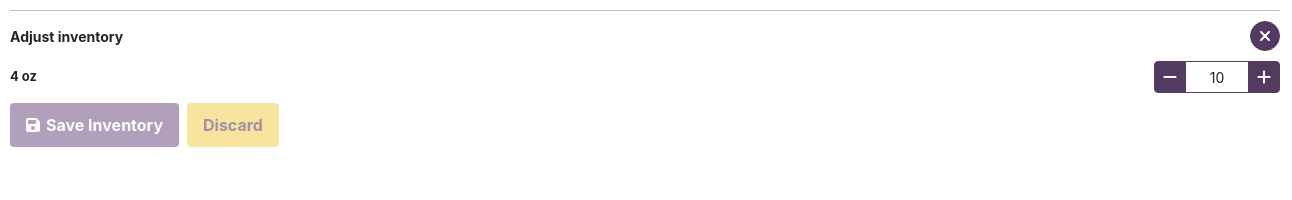
Test: admin preview product inventory editor › refreshes safely when Firestore rejects a stale quantity
Replace the text in the field named "4 oz Saffron Maple Syrup stock" with "12" at (1217, 77), box x1=1186 y1=61 x2=1248 y2=93
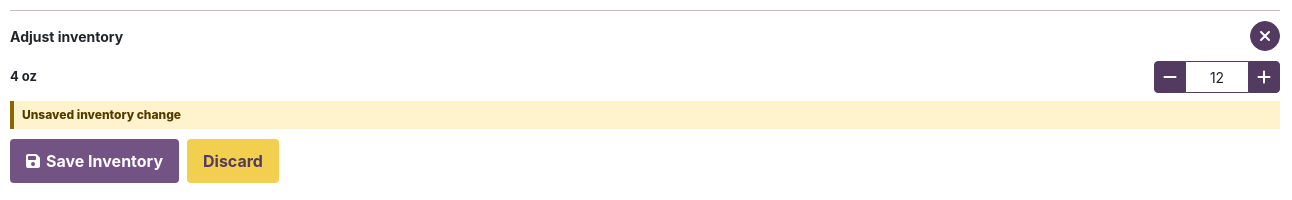
Click the button "Save Inventory" at (94, 161), box x1=10 y1=139 x2=179 y2=183
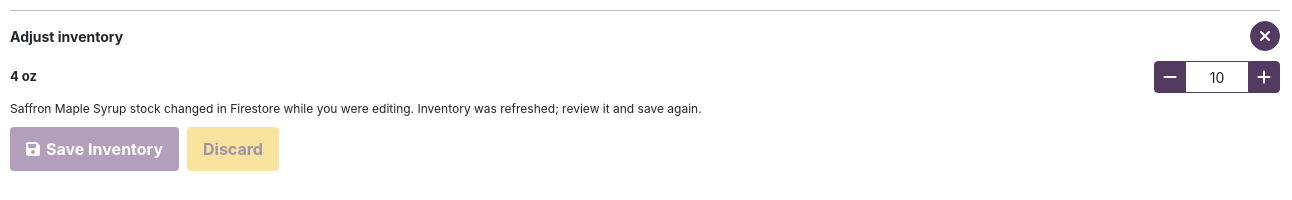
Expected: the text "stock changed in Firestore while you were editing" is shown, x1=10 y1=101 x2=702 y2=116
